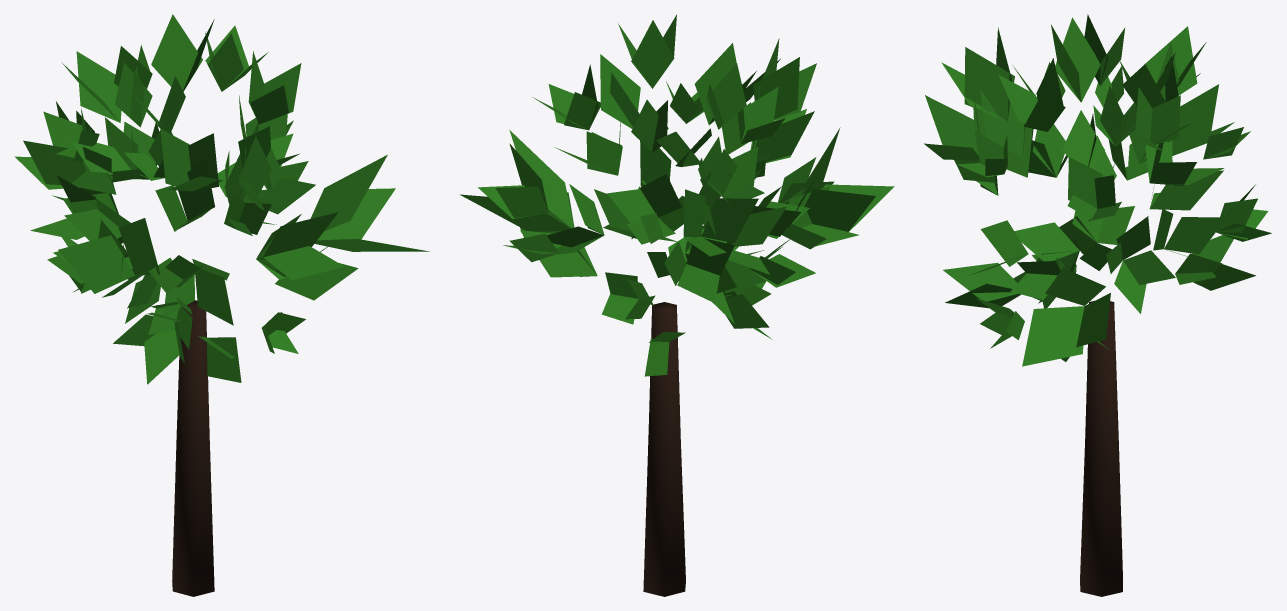
Rendered from Tree_10_A_LOD2.obj.
3 views of the same model, side by side, from view 1: azimuth 30°, elevation 25°; view 2: azimuth 150°, elevation 25°; view 3: azimuth 270°, elevation 25° (orthographic).
Visible parts, largest first — view 1: Leaves, Trunk; view 2: Leaves, Trunk; view 3: Leaves, Trunk.
Part boxes in pixels (<box>): Leaves: <box>15,14,429,384</box>; Trunk: <box>172,300,214,596</box>; Leaves: <box>460,14,894,376</box>; Trunk: <box>643,302,685,596</box>; Leaves: <box>924,14,1271,366</box>; Trunk: <box>1080,300,1122,596</box>.
Bounding box in the file's own units: 8.06 × 11.06 × 6.4.
